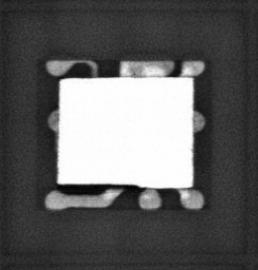DIE_BROKEN: (55, 181, 148, 190)
